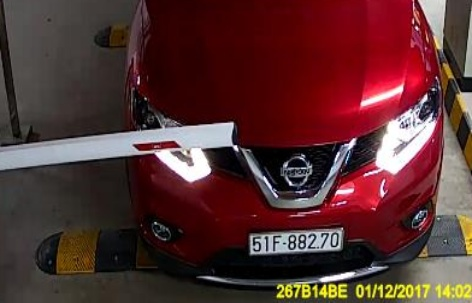plate: (250, 228, 342, 256)
